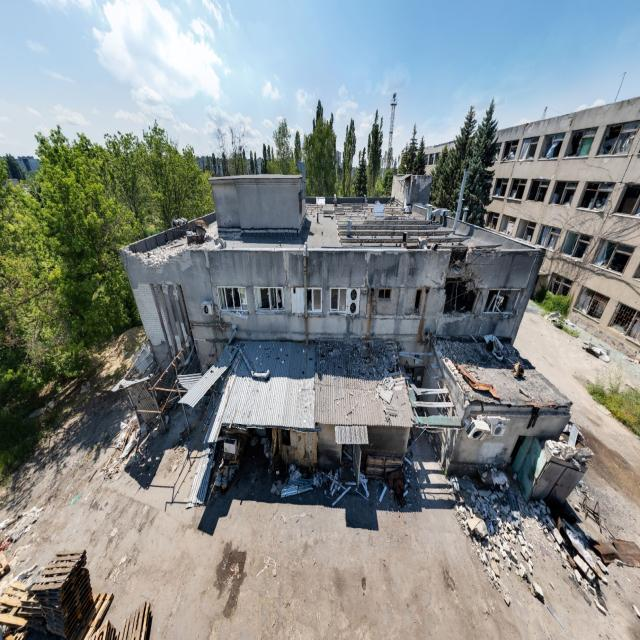broken_window: (505, 435, 535, 479), (484, 289, 521, 315), (291, 287, 323, 315), (217, 287, 248, 312), (255, 287, 284, 311), (330, 286, 347, 315), (413, 290, 422, 316), (378, 287, 392, 302)
building: (121, 250, 546, 345), (451, 402, 589, 510), (425, 343, 472, 479), (209, 173, 307, 236), (391, 174, 432, 208)
damage: (441, 249, 484, 319), (466, 415, 508, 443), (125, 250, 186, 269)
damaged_roof: (102, 345, 246, 422), (398, 343, 462, 432)
other: (10, 347, 640, 640), (0, 250, 148, 640), (307, 174, 393, 198)
roof: (102, 343, 462, 432), (121, 196, 546, 252), (436, 343, 568, 409)
